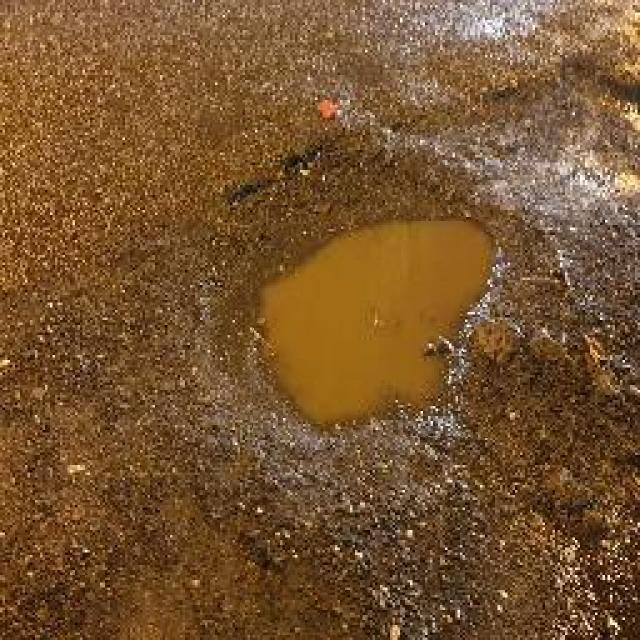puddle: (254, 210, 502, 438)
